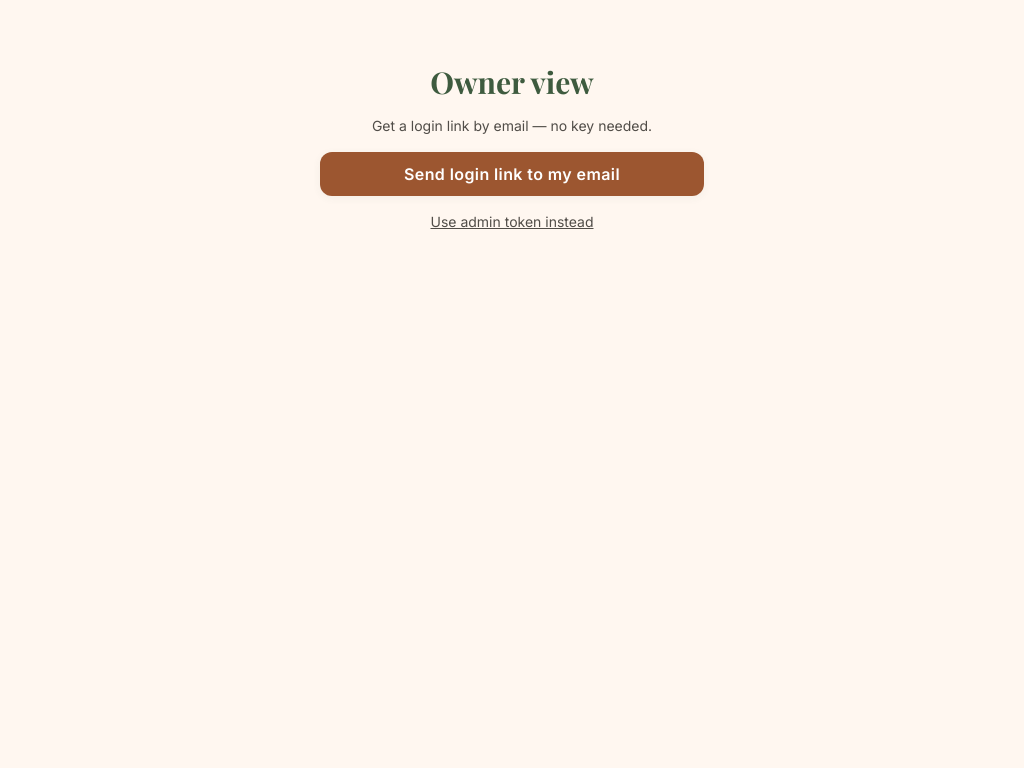
Scenario: owner login and visit switching › opens token sign-in when email fails due to email service rejection
Step 1. Click the button "Send login link to my email" → x=512, y=174, box [320,152,704,196]
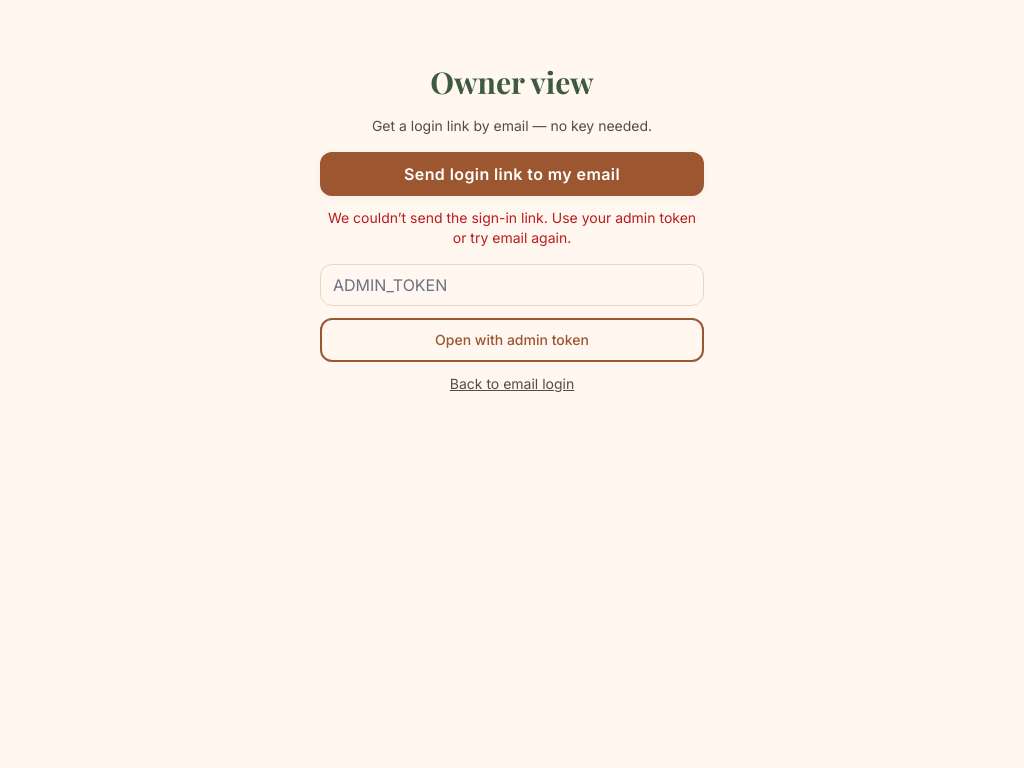
Expected: the message shows "We couldn’t send the sign-in link", [328,209,696,246]
Step 2. Type "fixture-admin-token" into the password field named "Admin token" → x=512, y=285, box [320,264,704,306]
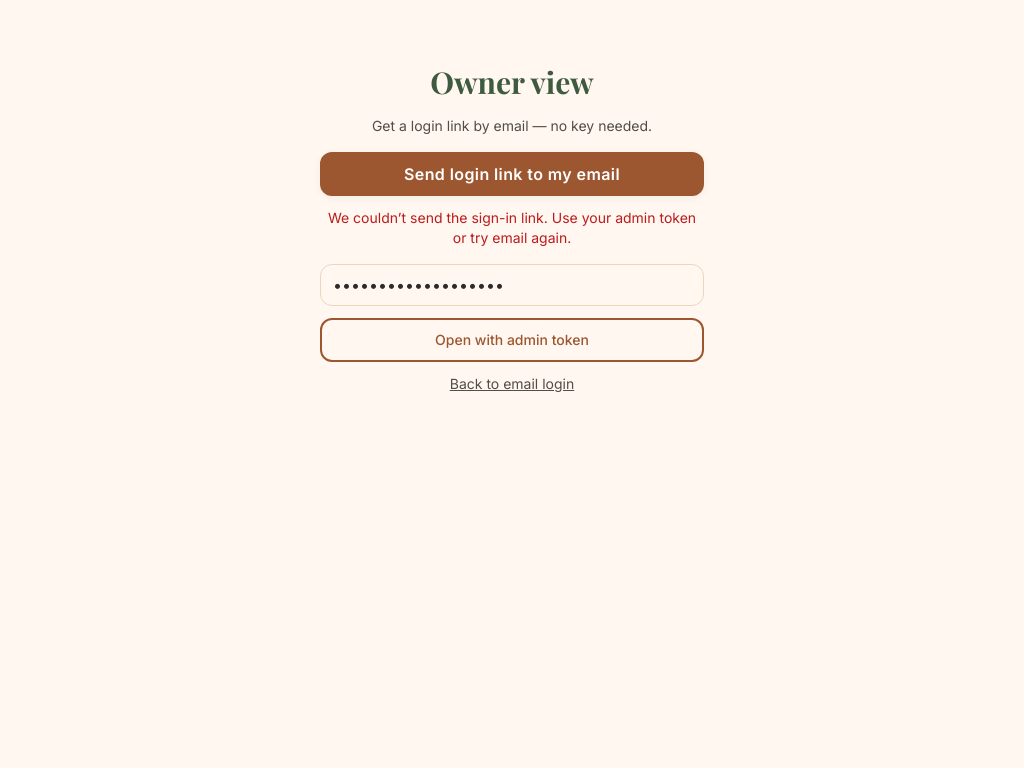
Step 3. Click the button "Open with admin token" → x=512, y=340, box [320,318,704,362]
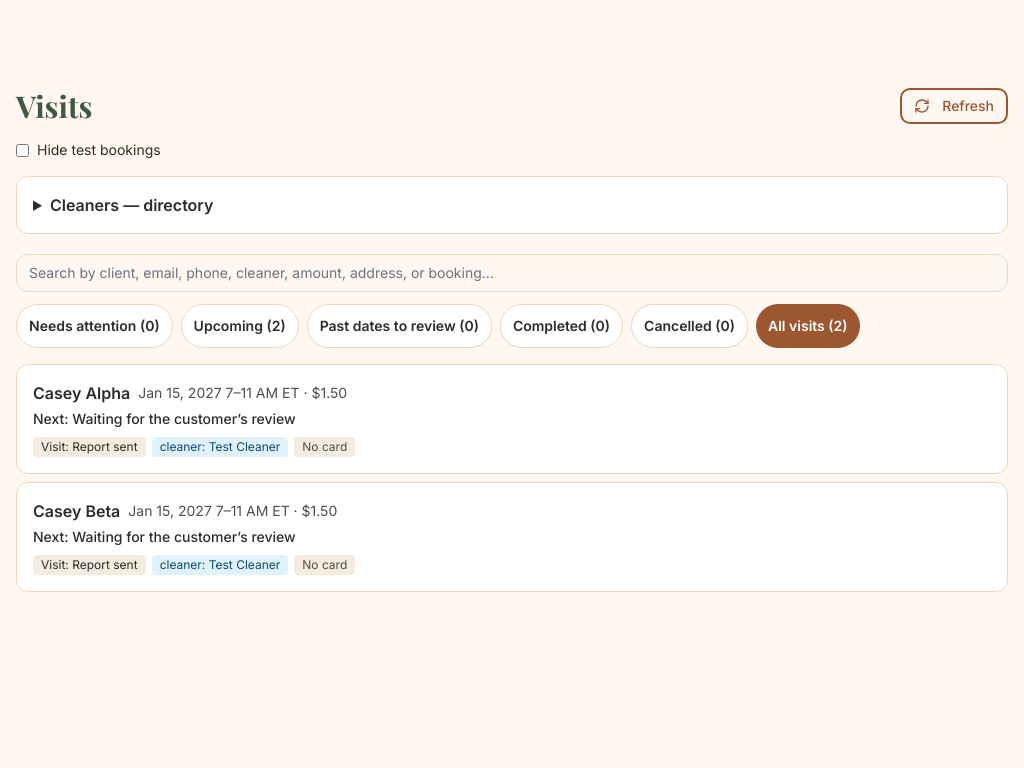
Expected: the button "All visits (2)" is shown, [756,304,860,348]
